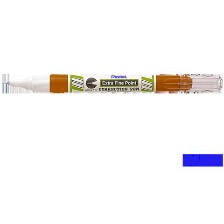correction_fluid: (0, 71, 223, 94)
